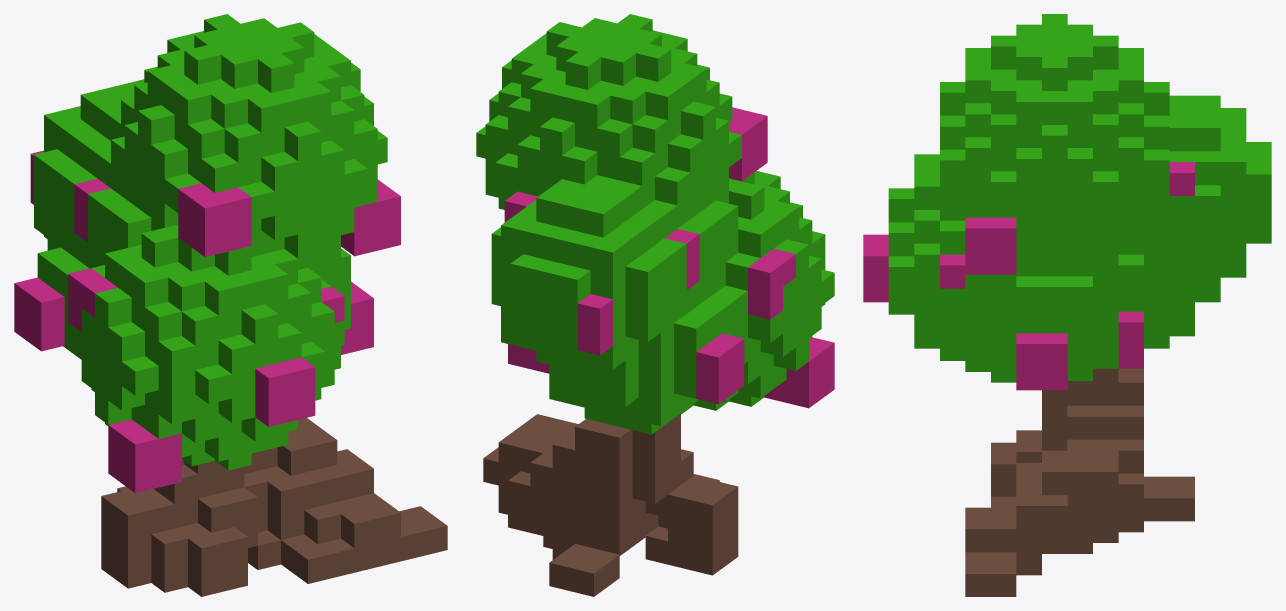
File: bush0Berries.obj
3 renders of one model, left to right at view 1: azimuth 30°, elevation 25°; view 2: azimuth 150°, elevation 25°; view 3: azimuth 270°, elevation 25°, orthographic. The views are drawn at different scales.
Size of the model in its own units: 14 by 21 by 16.
1 material, 1 textured.
